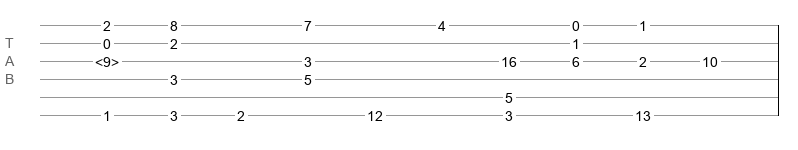0: (103, 36, 111, 46), (572, 18, 580, 28)
1: (103, 108, 111, 118), (572, 36, 580, 46), (639, 18, 647, 28)
10: (702, 54, 718, 64)
12: (367, 108, 383, 118)
13: (635, 108, 651, 118)
16: (501, 54, 517, 64)
2: (103, 18, 111, 28), (170, 36, 178, 46), (237, 108, 245, 118), (639, 54, 647, 64)
3: (170, 72, 178, 82), (170, 108, 178, 118), (304, 54, 312, 64), (505, 108, 513, 118)
4: (438, 18, 446, 28)
5: (304, 72, 312, 82), (505, 90, 513, 100)
6: (572, 54, 580, 64)
7: (304, 18, 312, 28)
8: (170, 18, 178, 28)
harmonic: (95, 54, 119, 64)
